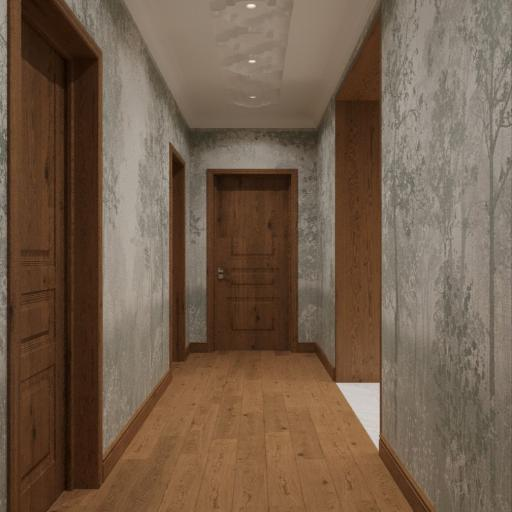child: (0, 0, 512, 512)
corridor: (3, 0, 103, 511), (207, 169, 298, 351)
